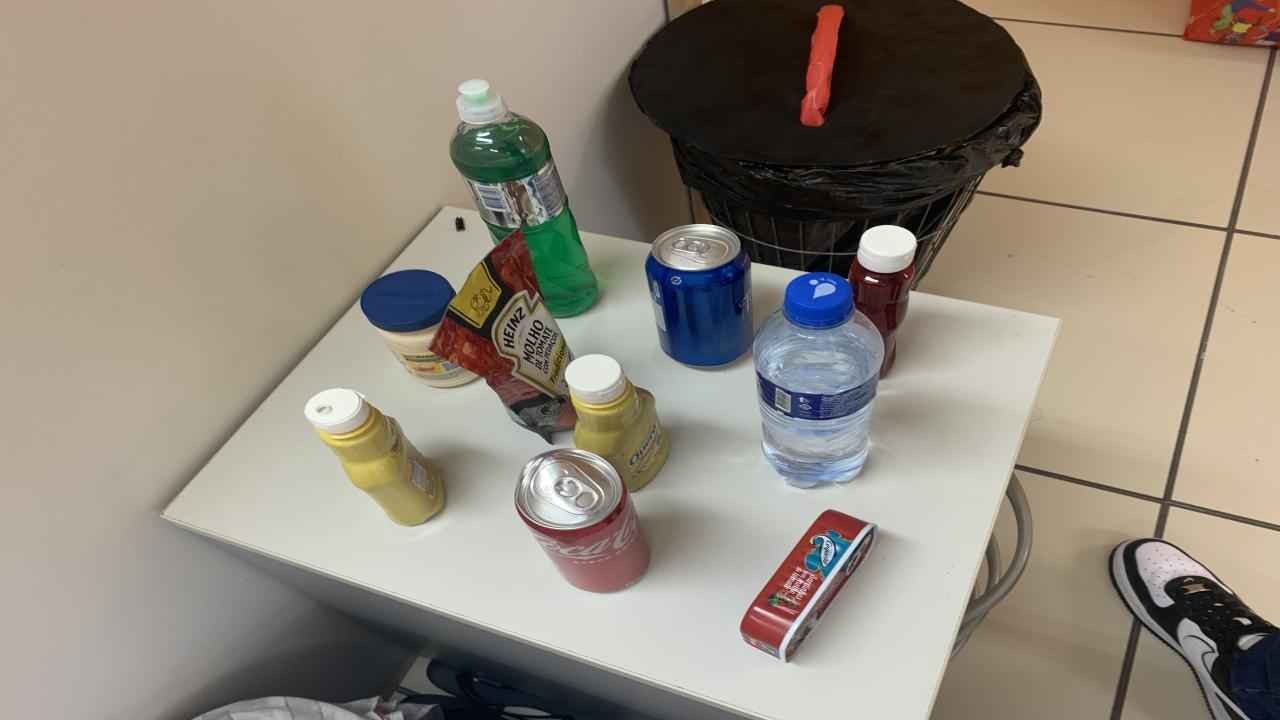Coke-Drinks: (515, 448, 650, 592)
Detergent-Cleanup_Items: (450, 81, 598, 317)
Ketchup-Pantry_Items: (850, 225, 918, 375)
Mayonnaise-Pantry_Items: (360, 270, 478, 388)
Mustard-Pantry_Items: (302, 388, 445, 525), (565, 354, 670, 491)
Tomato_Sauce-Pantry_Items: (430, 231, 578, 442)
Tonic-Drinks: (645, 225, 752, 368)
Tuna_Can-Pantry_Items: (740, 510, 878, 662)
Water_Bottle-Drinks: (752, 272, 885, 488)
